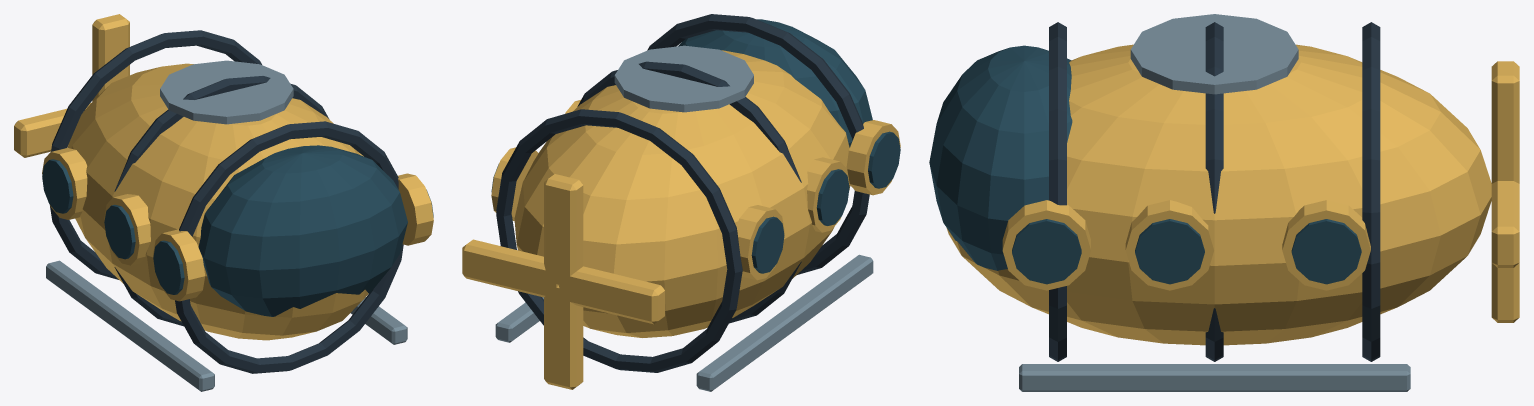
Rendered from submarines-diving-capsule.lod0.glb.
3 renders of one model, left to right at view 1: azimuth 30°, elevation 25°; view 2: azimuth 150°, elevation 25°; view 3: azimuth 270°, elevation 25°, orthographic. The views are drawn at different scales.
Parts seen in each view (by area): view 1: submarines-diving-capsule__body, submarines-diving-capsule__hatch, submarines-diving-capsule__propeller; view 2: submarines-diving-capsule__body, submarines-diving-capsule__propeller, submarines-diving-capsule__hatch; view 3: submarines-diving-capsule__body, submarines-diving-capsule__hatch, submarines-diving-capsule__propeller.
Part boxes in pixels (bbox=[...]): submarines-diving-capsule__body: bbox=[42, 30, 433, 391]; submarines-diving-capsule__hatch: bbox=[160, 60, 293, 124]; submarines-diving-capsule__propeller: bbox=[14, 14, 129, 157]; submarines-diving-capsule__body: bbox=[491, 14, 900, 391]; submarines-diving-capsule__propeller: bbox=[462, 174, 664, 389]; submarines-diving-capsule__hatch: bbox=[614, 45, 753, 112]; submarines-diving-capsule__body: bbox=[929, 22, 1491, 391]; submarines-diving-capsule__hatch: bbox=[1130, 14, 1298, 94]; submarines-diving-capsule__propeller: bbox=[1491, 61, 1519, 322].
Size of the model in its own units: 1.58 by 1.47 by 2.53.
